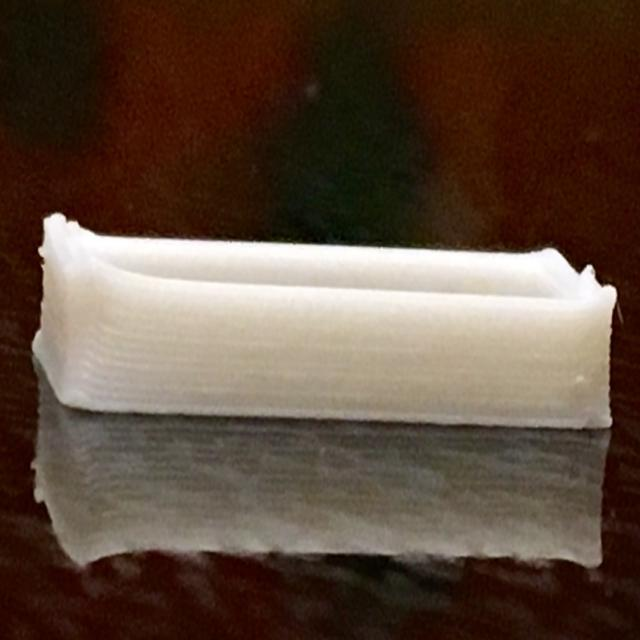Warping: (16, 351, 226, 444), (534, 401, 626, 447)
